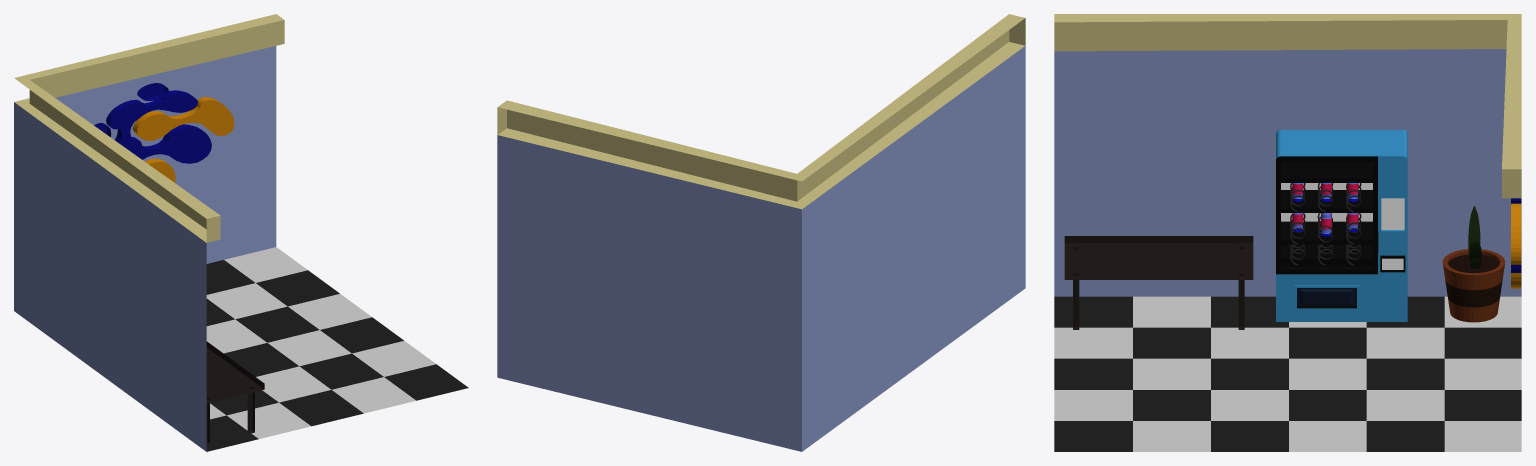
Rendered from AnimatedObject0014.obj.
3 views of the same model, side by side, from view 1: azimuth 30°, elevation 25°; view 2: azimuth 150°, elevation 25°; view 3: azimuth 270°, elevation 25° (orthographic). The views are drawn at different scales.
Visible parts, largest first — view 1: ruangan_Cube.003, meja_Cube.004, logo_Circle.005, logo.001_Circle.001, logo.005_Circle.002; view 2: ruangan_Cube.003; view 3: ruangan_Cube.003, vending_machine_Cube.001, meja_Cube.004, pot_bunga_Cylinder, per_second\_Spiral.010, Plane.007, logo_Circle.005.
Boxes of the visible parts, <box> form: ruangan_Cube.003: <box>14,14,468,451</box>; meja_Cube.004: <box>206,341,264,444</box>; logo_Circle.005: <box>133,97,234,140</box>; logo.001_Circle.001: <box>115,124,211,163</box>; logo.005_Circle.002: <box>106,90,197,132</box>; ruangan_Cube.003: <box>497,14,1025,451</box>; ruangan_Cube.003: <box>1054,14,1521,451</box>; vending_machine_Cube.001: <box>1276,130,1407,321</box>; meja_Cube.004: <box>1064,236,1253,329</box>; pot_bunga_Cylinder: <box>1442,249,1505,322</box>; per_second\_Spiral.010: <box>1290,183,1361,265</box>; Plane.007: <box>1468,206,1481,268</box>; logo_Circle.005: <box>1511,203,1521,264</box>.
Size of the model in its own units: 11.73 by 9.95 by 14.9.
